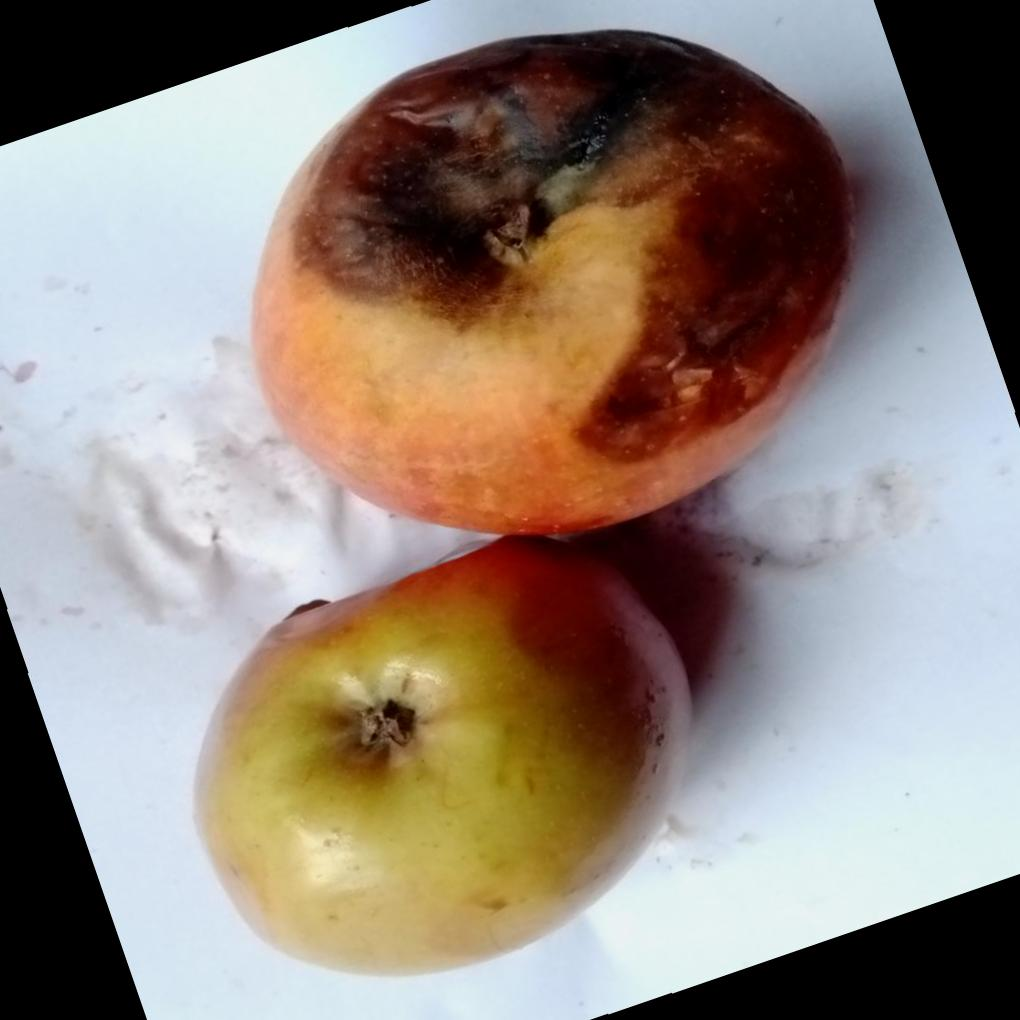FreshOrange: (188, 28, 855, 982)
